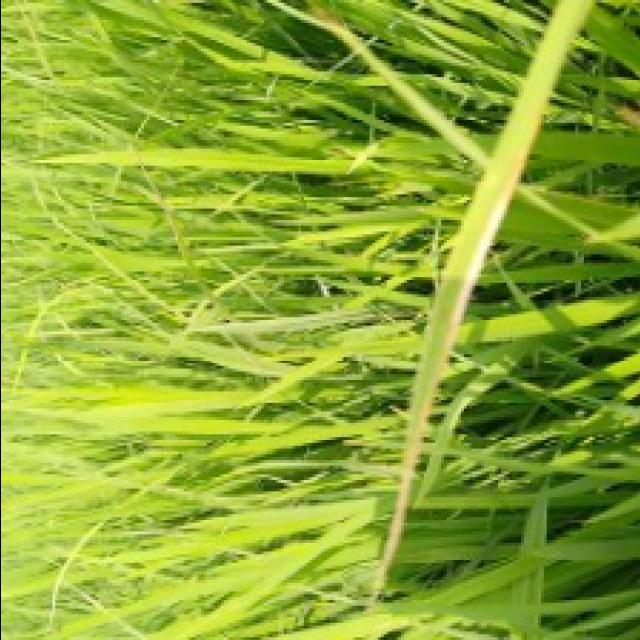Unhealthy: (370, 128, 534, 606)
